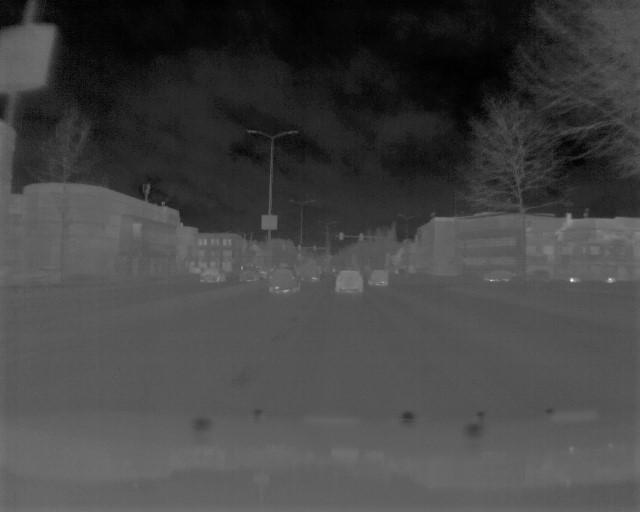car: (266, 267, 304, 298), (333, 267, 365, 294), (200, 263, 227, 285), (482, 267, 515, 283), (369, 266, 391, 286), (239, 265, 260, 283)
